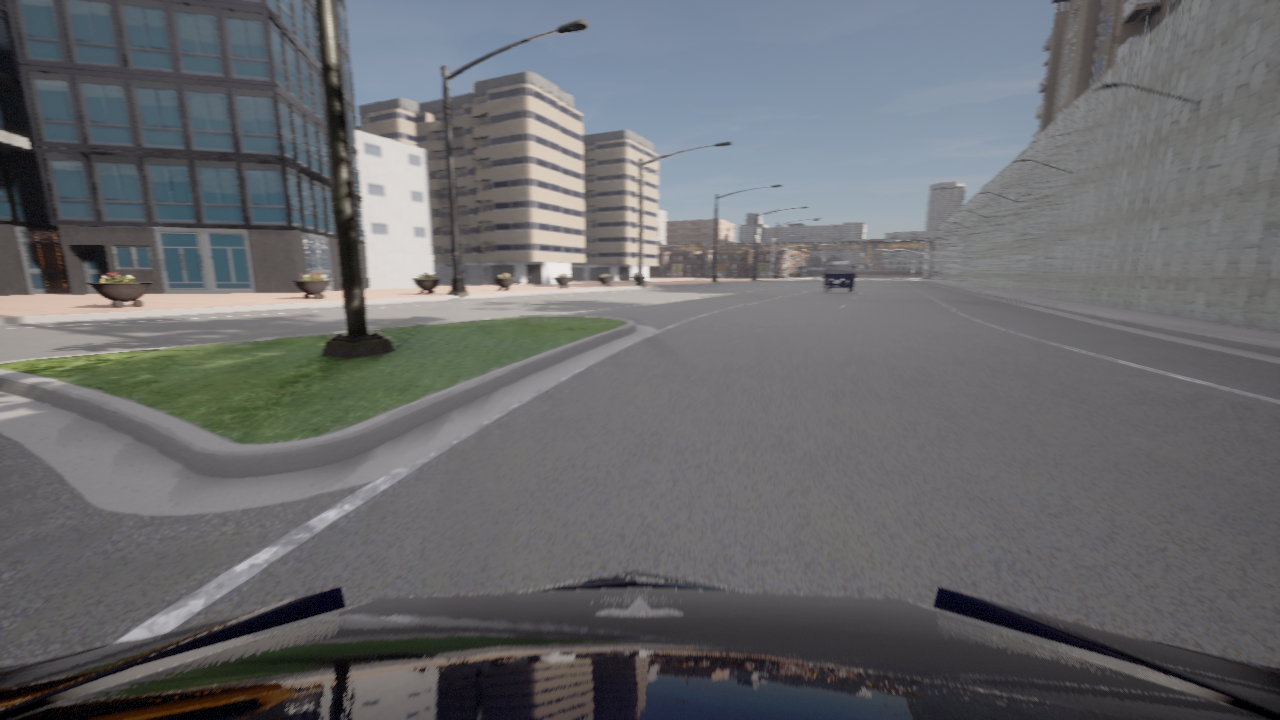cyclist: (0, 569, 1279, 719), (822, 262, 857, 292)
